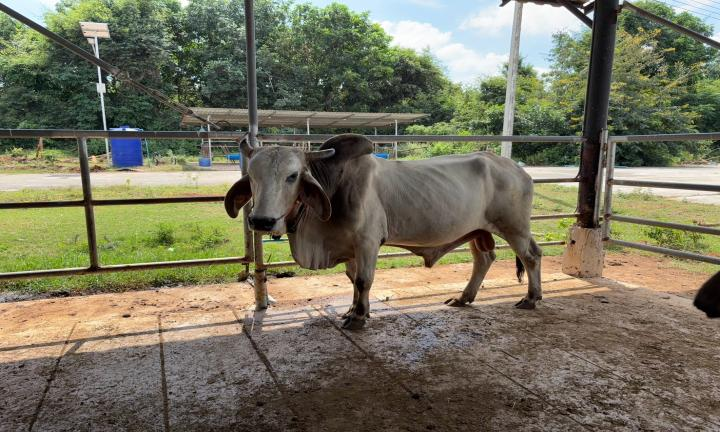Brahman: (225, 134, 542, 329)
